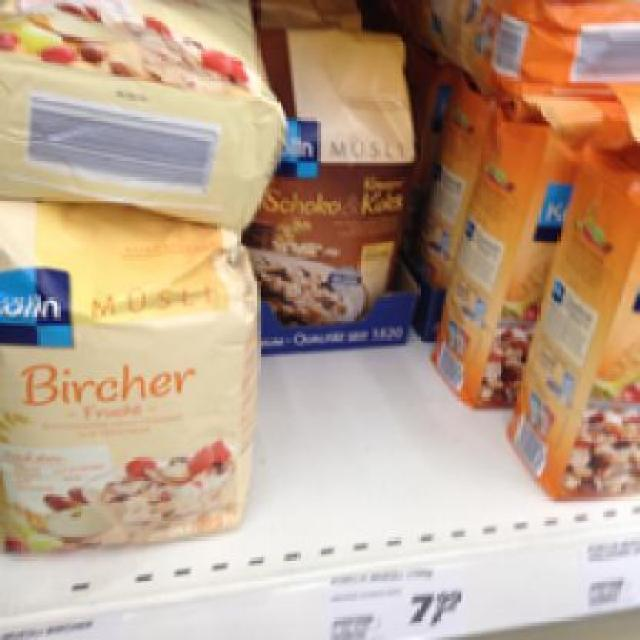Cereal: (0, 199, 255, 558), (248, 26, 418, 326)
